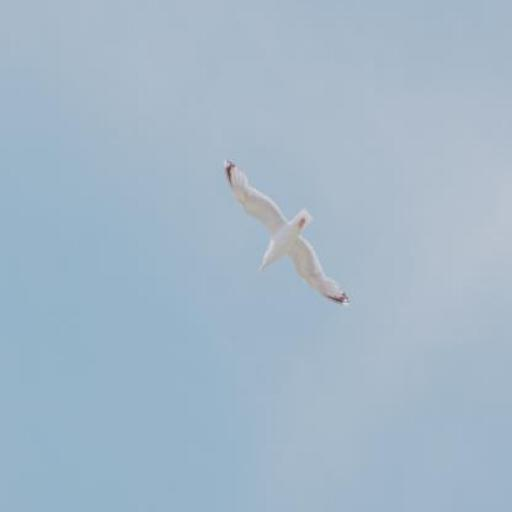bird: (224, 159, 350, 309)
